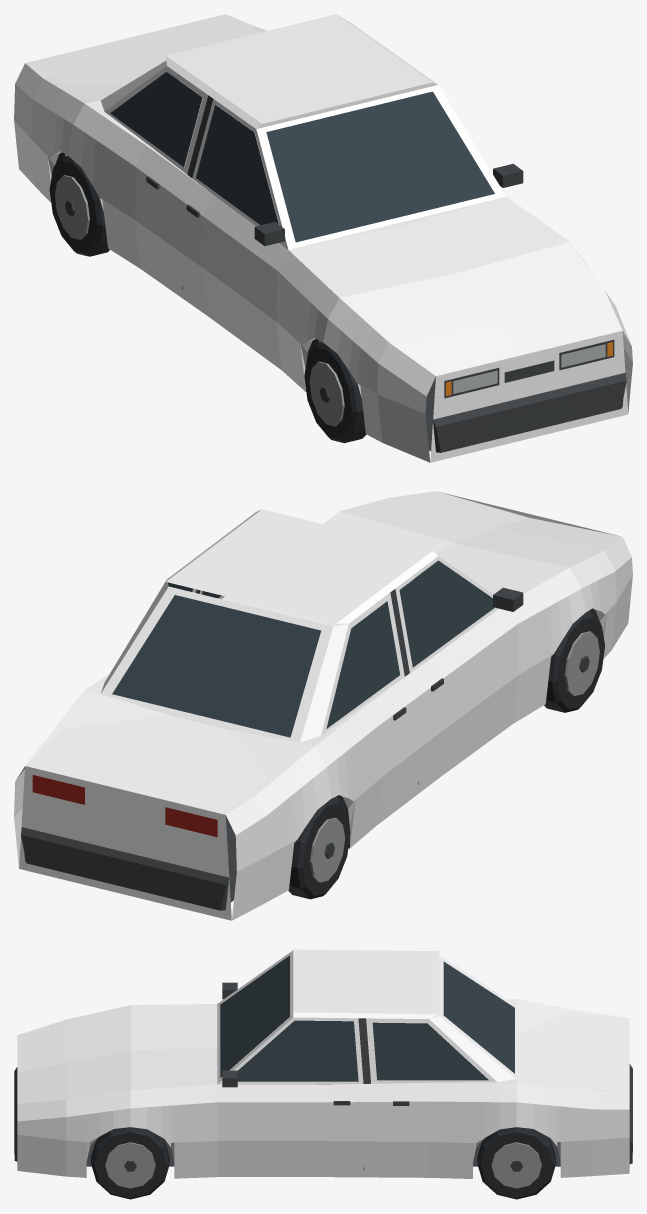
Rendered from lindauer_rauhreif.glb.
3 views of the same model, one above another, from view 1: azimuth 30°, elevation 25°; view 2: azimuth 150°, elevation 25°; view 3: azimuth 270°, elevation 25° (orthographic). The views are drawn at different scales.
Visible parts, largest first — view 1: lindauer_rauhreif; view 2: lindauer_rauhreif; view 3: lindauer_rauhreif.
Part boxes in pixels (box(x1,y1,x2,y2)): lindauer_rauhreif: box(14, 14, 632, 462); lindauer_rauhreif: box(14, 491, 632, 920); lindauer_rauhreif: box(14, 949, 632, 1199).
Bounding box in the file's own units: 1.81 × 1.5 × 4.87.
Materials: 8 (1 with a texture image).
